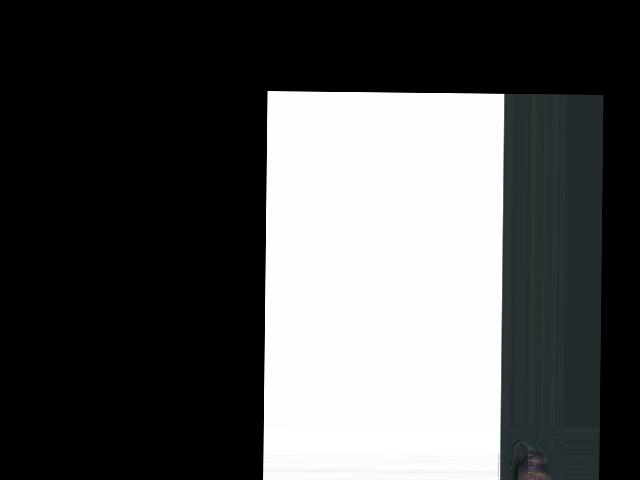beet: (510, 441, 551, 480)
